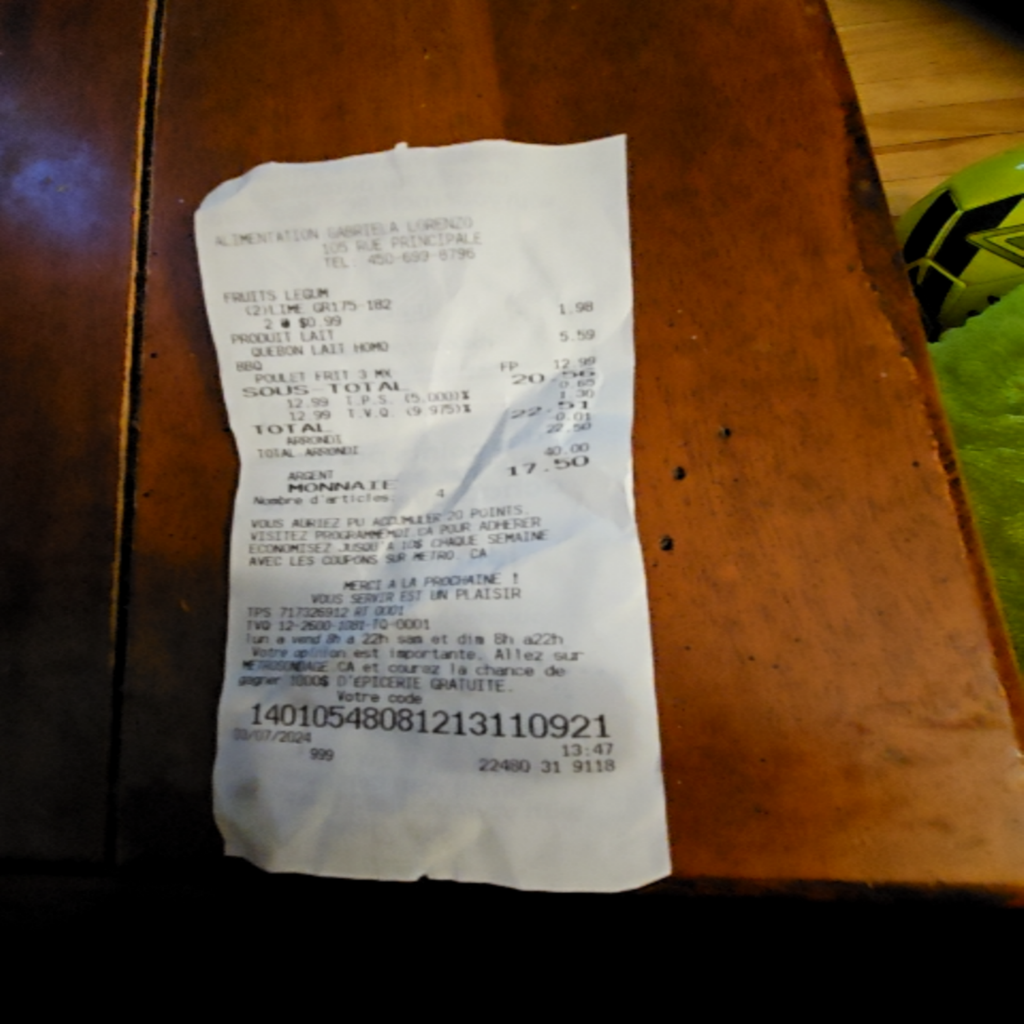recipt: (189, 130, 671, 894)
